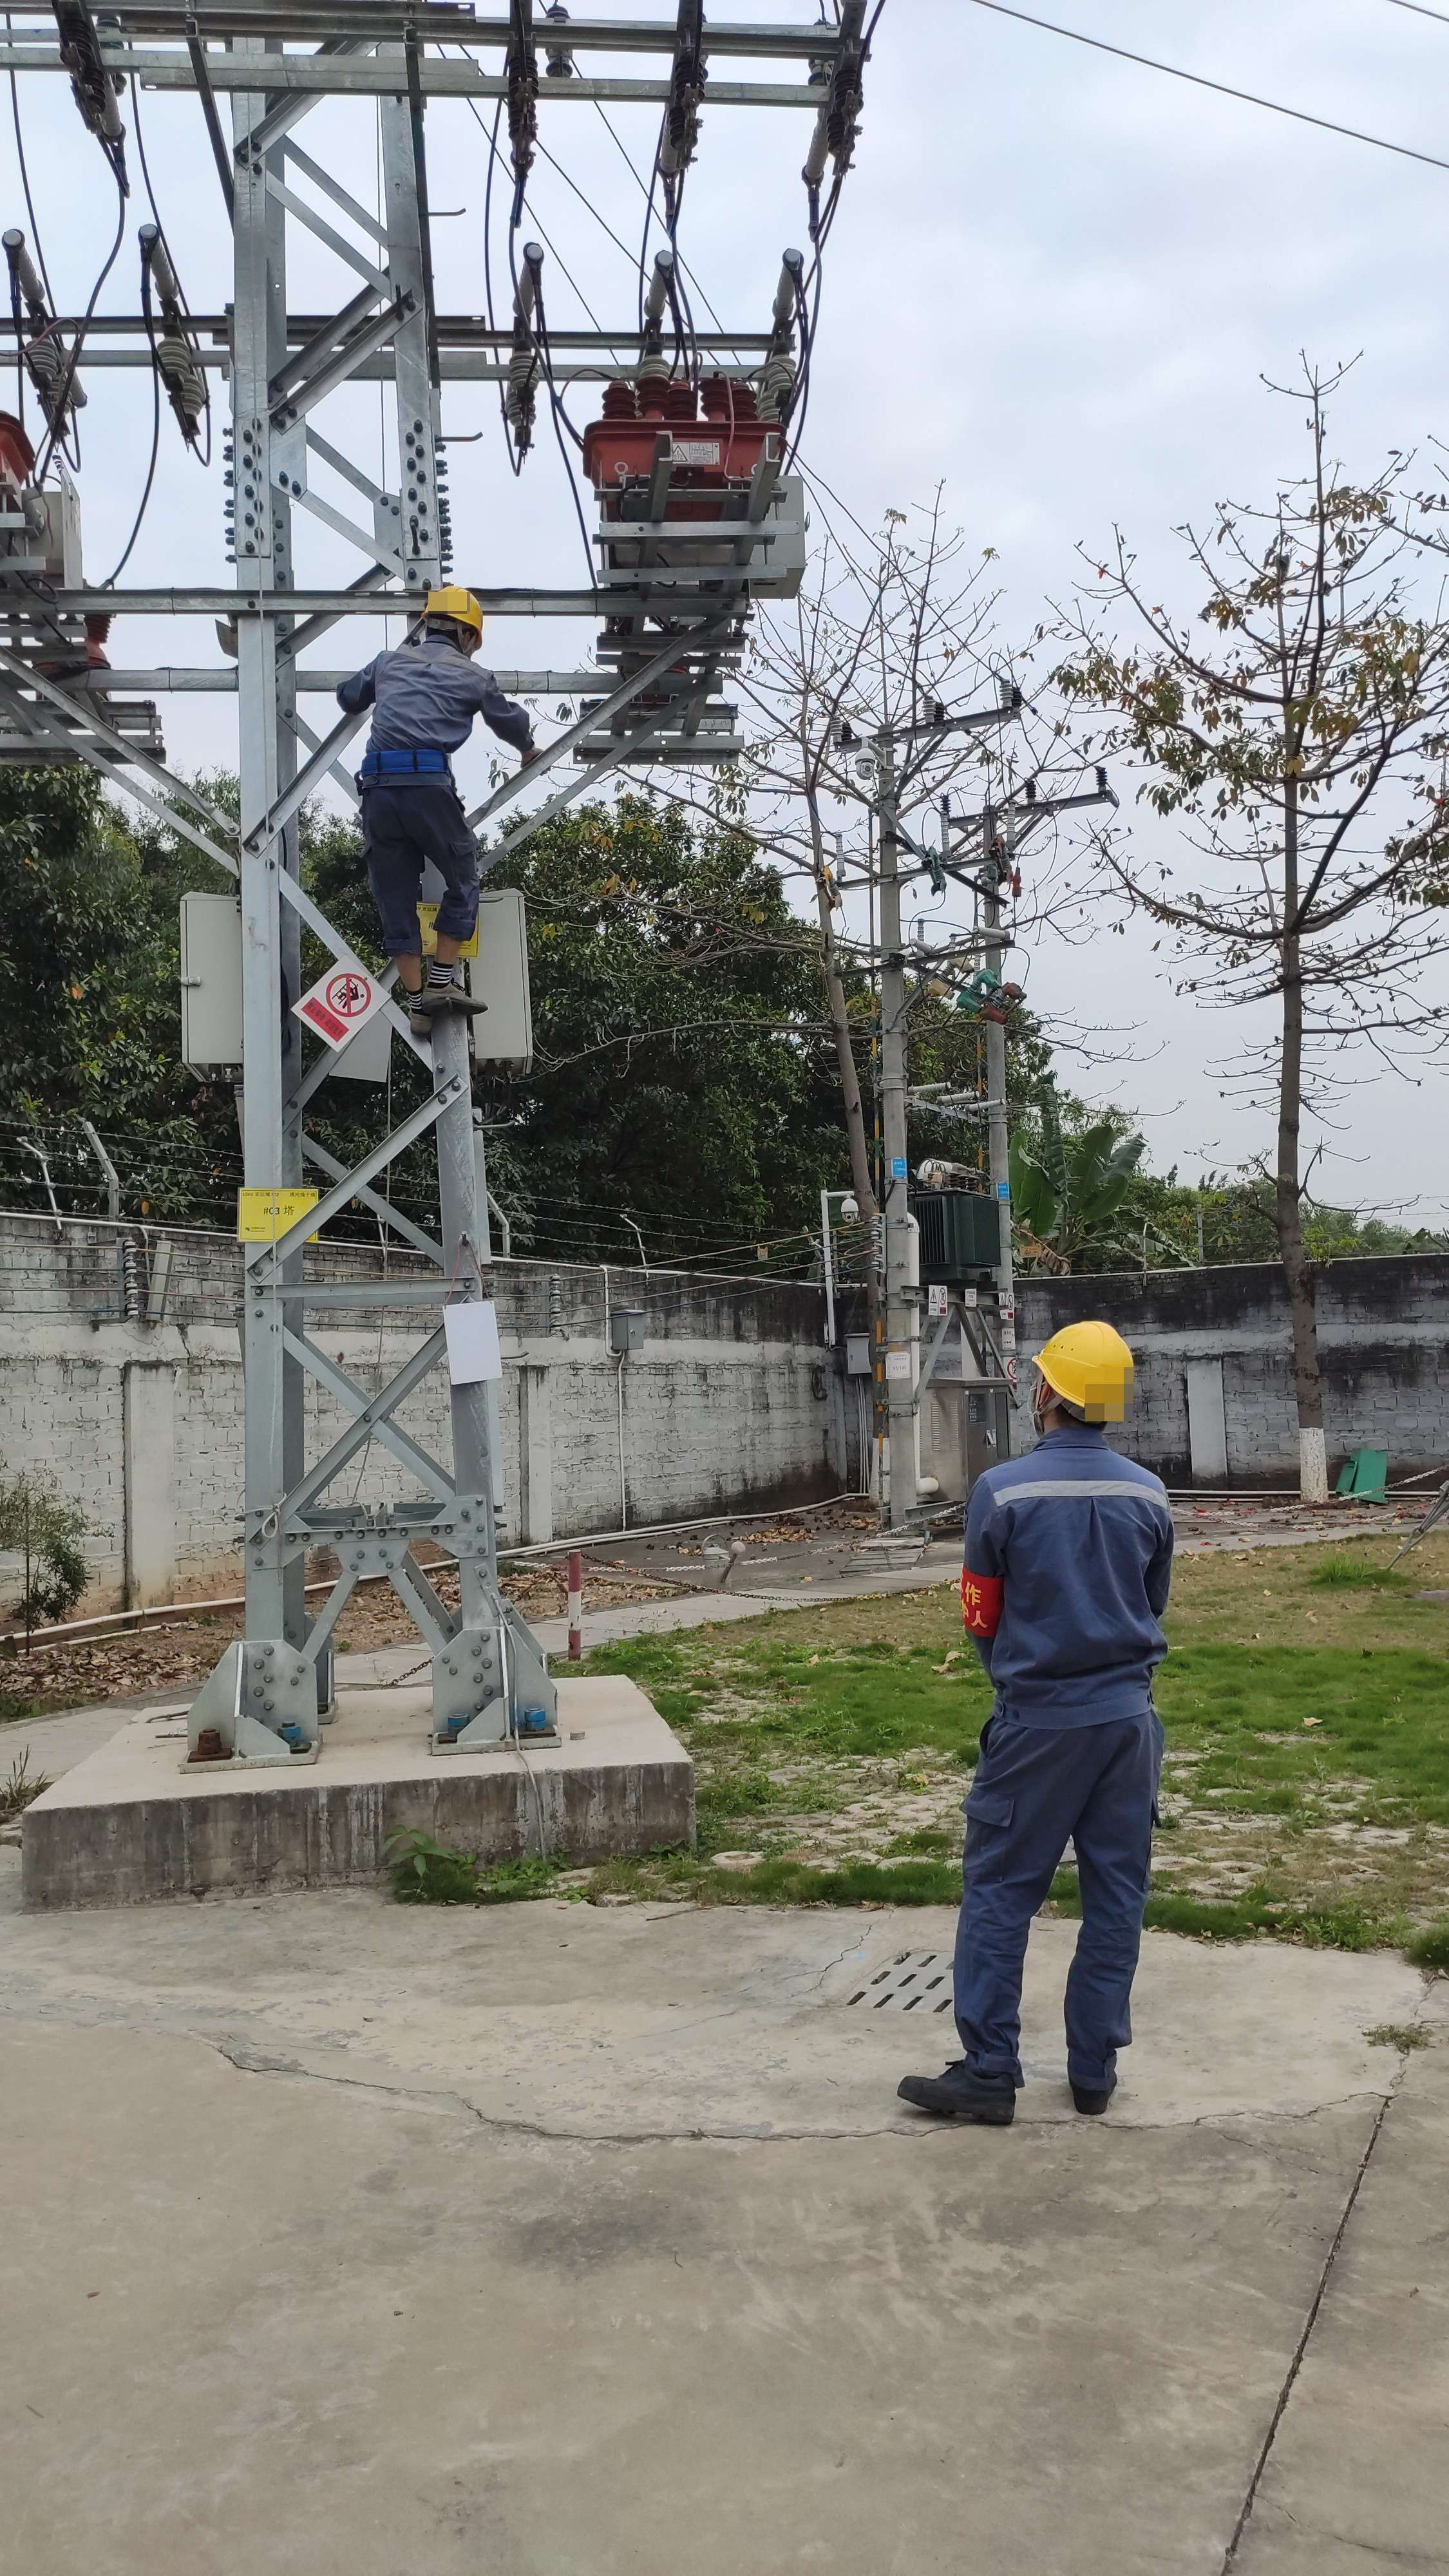downsuit: (936, 1741, 1166, 2077), (357, 800, 485, 961)
upsuit: (952, 1431, 1184, 1714), (338, 642, 534, 778)
wrongbottom: (432, 908, 476, 980), (384, 938, 428, 1007)
